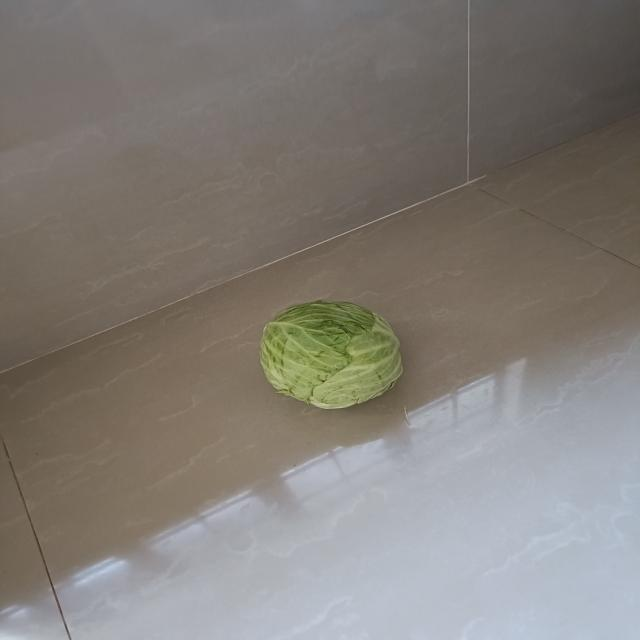cabbage: (260, 301, 403, 411)
